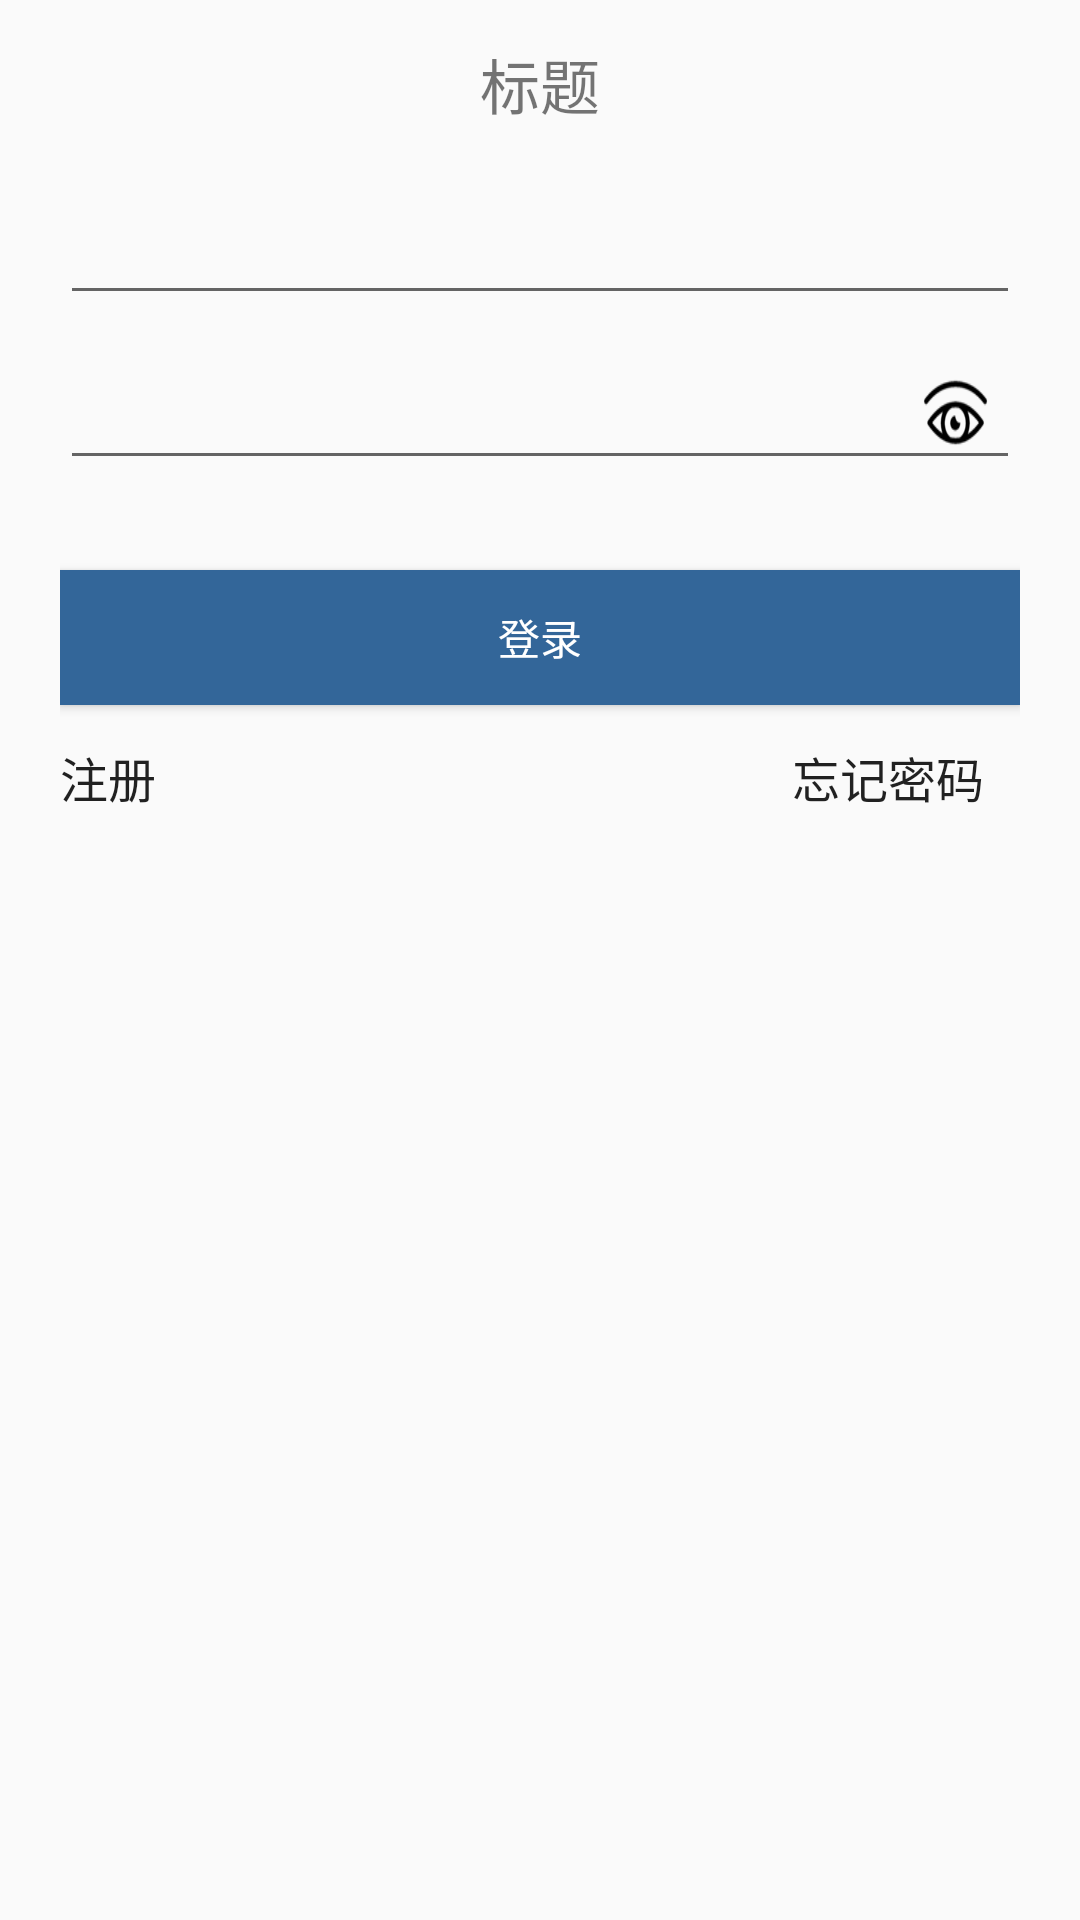

Locate icon controls on the screen. Image size 1080px x 1920px, boxes as region(x1, y1, x2, y2).
eye: region(924, 380, 987, 445)
